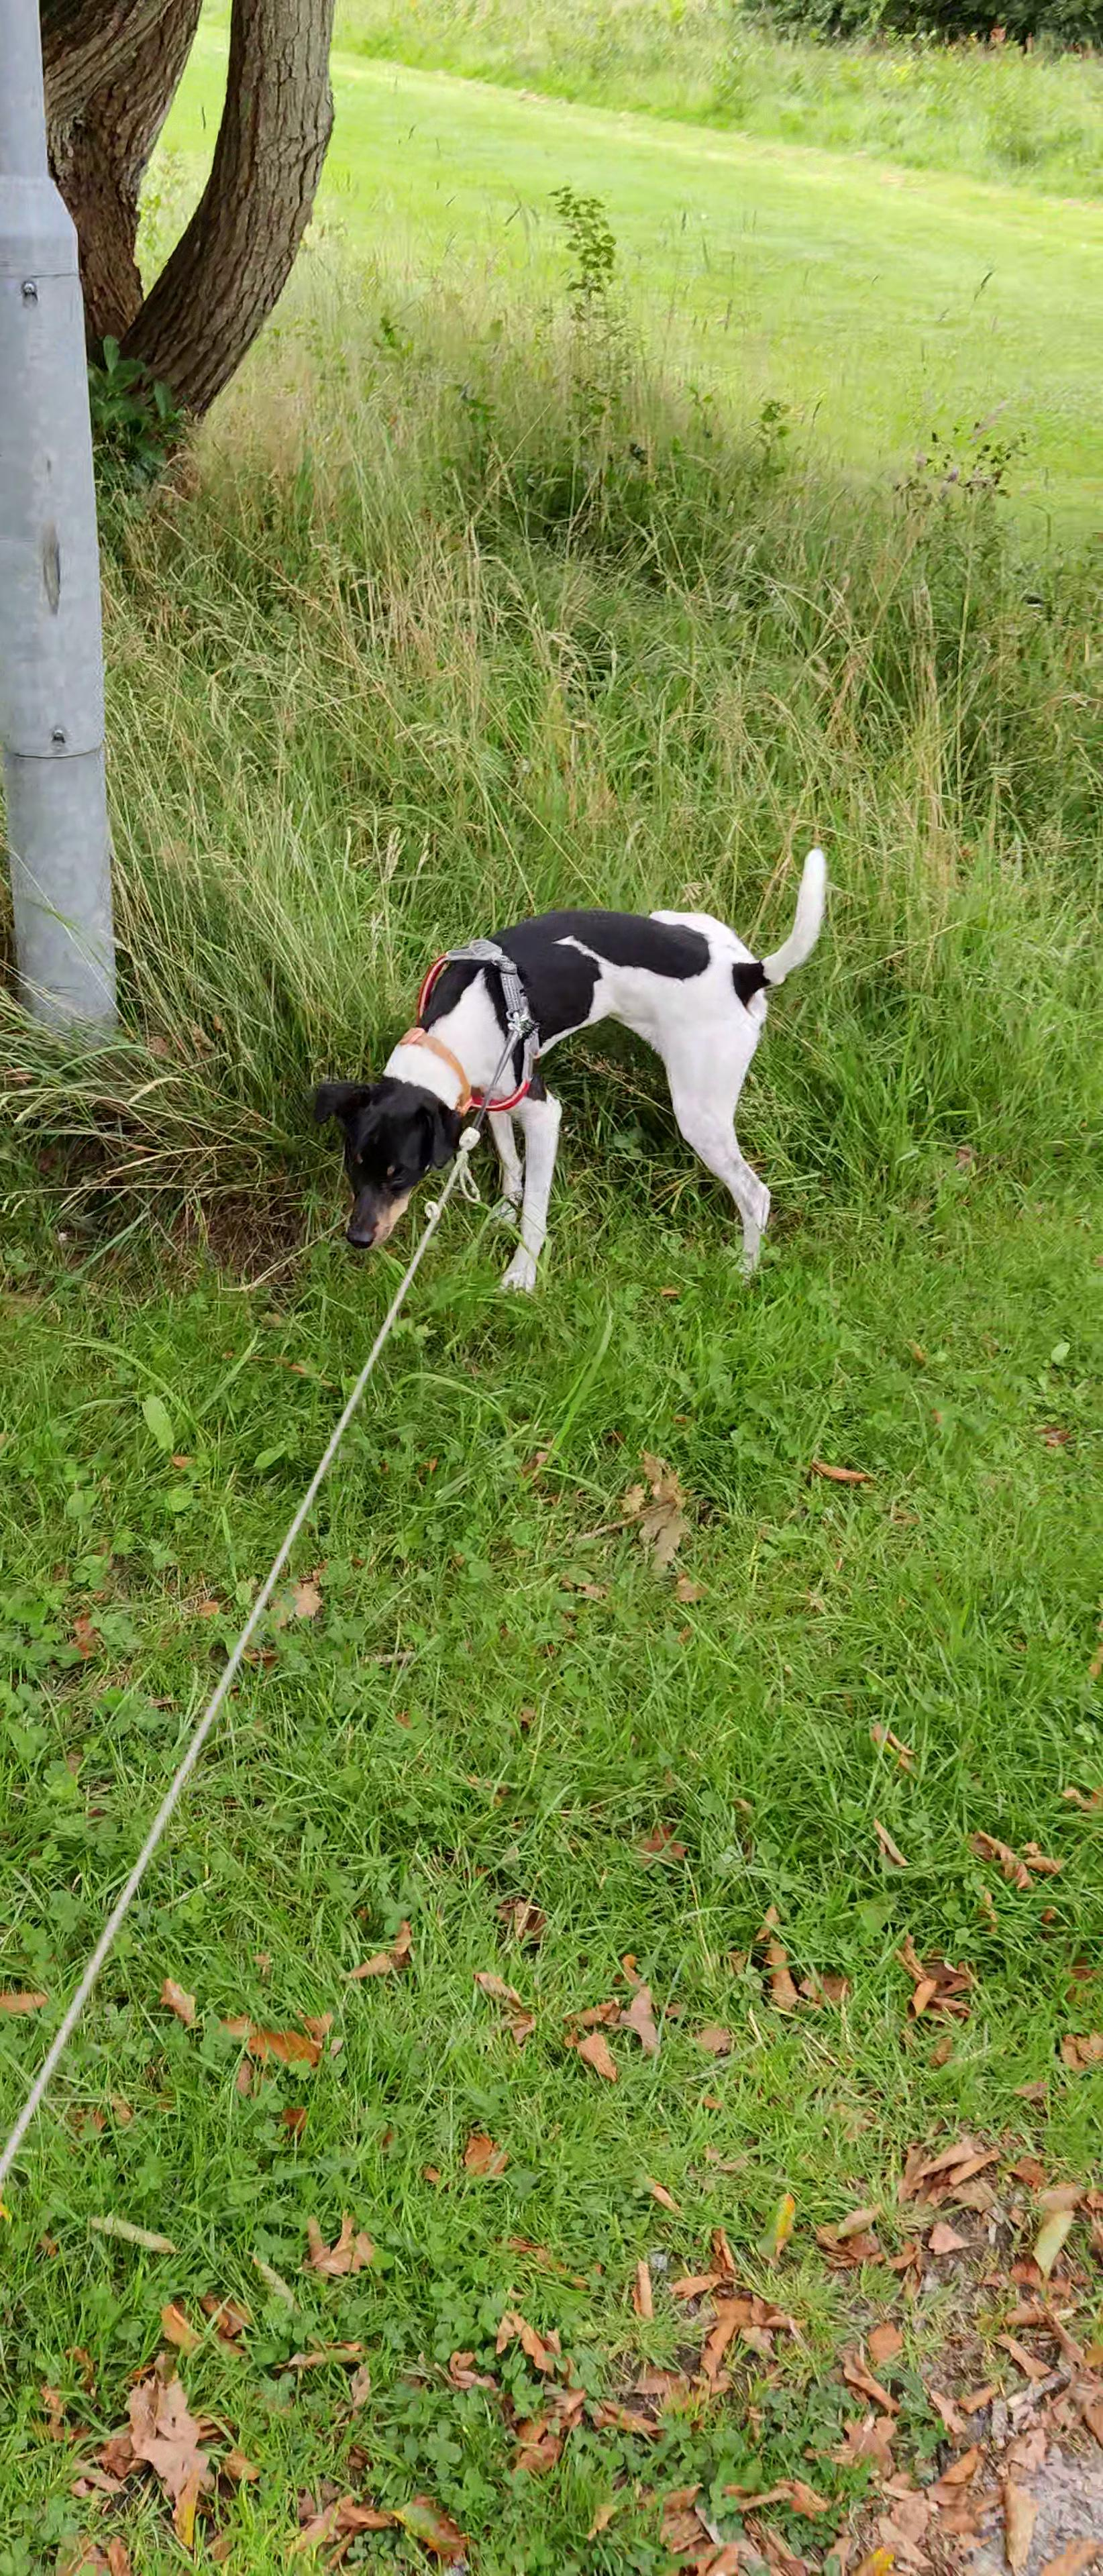Dog: (289, 823, 861, 1304)
